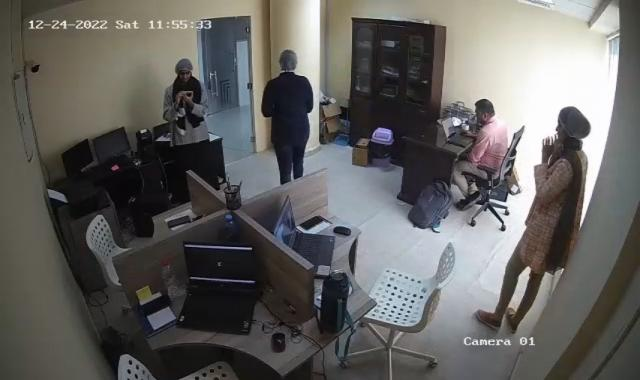hairnet: (555, 106, 591, 142), (172, 57, 195, 83), (280, 48, 298, 76)
no_hairnet: (474, 98, 496, 126)
